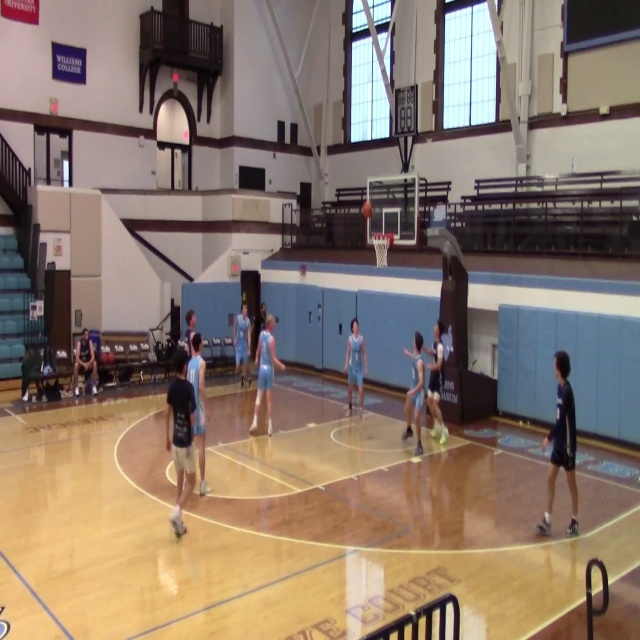Basketball: (100, 351, 114, 365), (361, 201, 372, 218)
